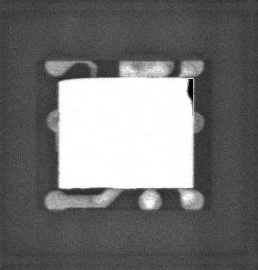DIE_BROKEN: (186, 77, 195, 102)
